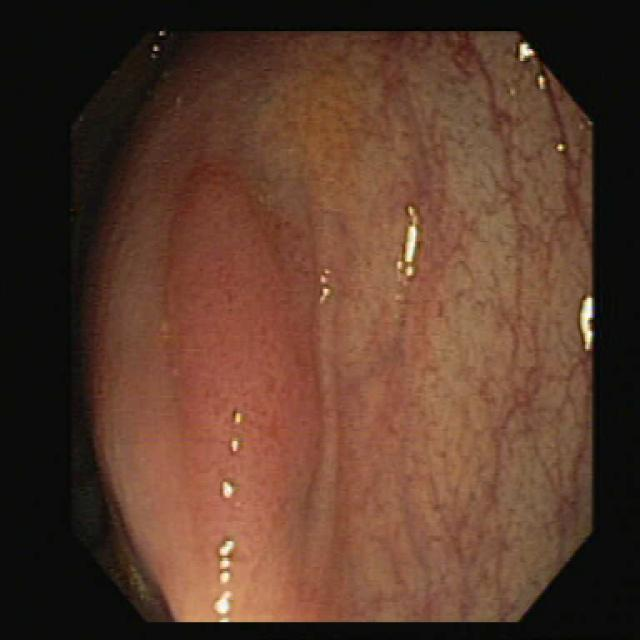tumor: (165, 167, 308, 578)
